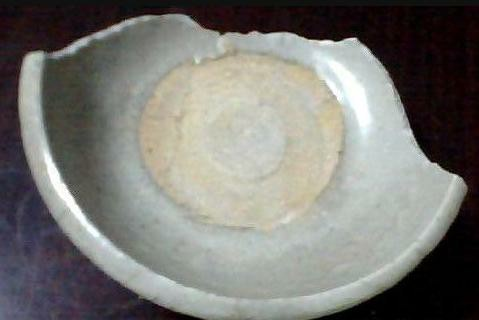ceramics: (17, 11, 467, 320)
